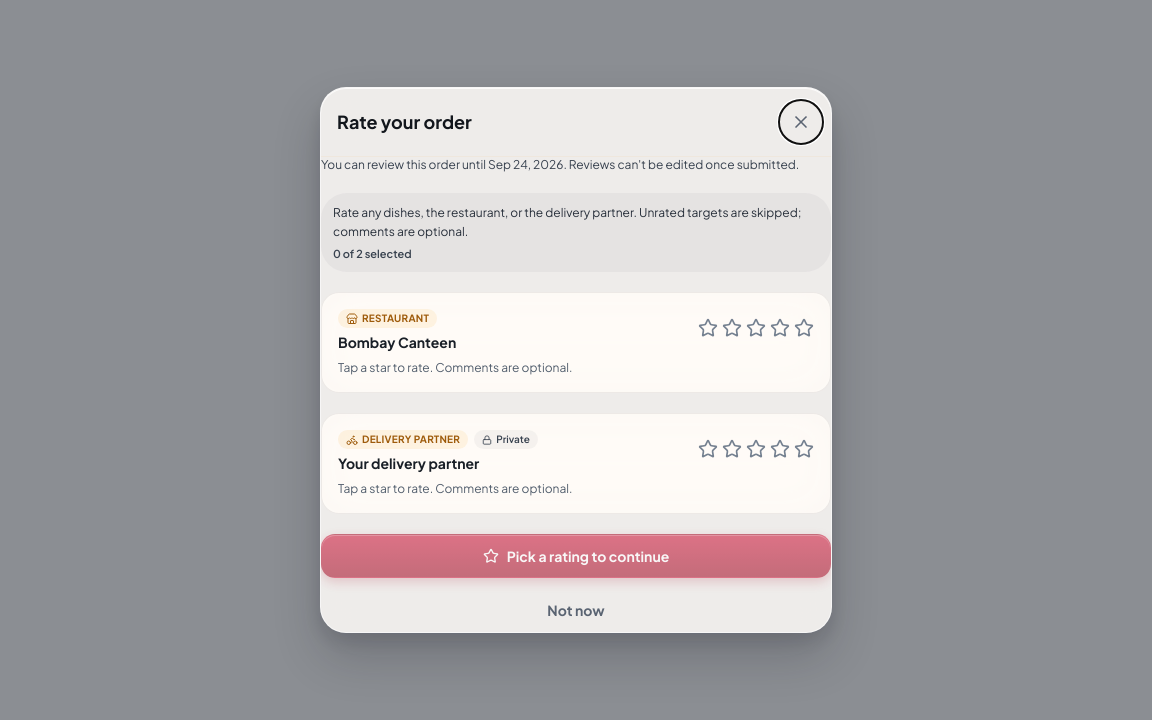
RateOrderModal › will not submit until something has actually been rated
Expected: the text "Bombay Canteen" is shown, 338,332 -> 456,352
Expected: the button "Pick a rating to continue" is disabled, 321,534 -> 831,578
Click the radio button named "5 stars" in the row of "Bombay Canteen".
click(804, 331)  # box 794,318 -> 814,344
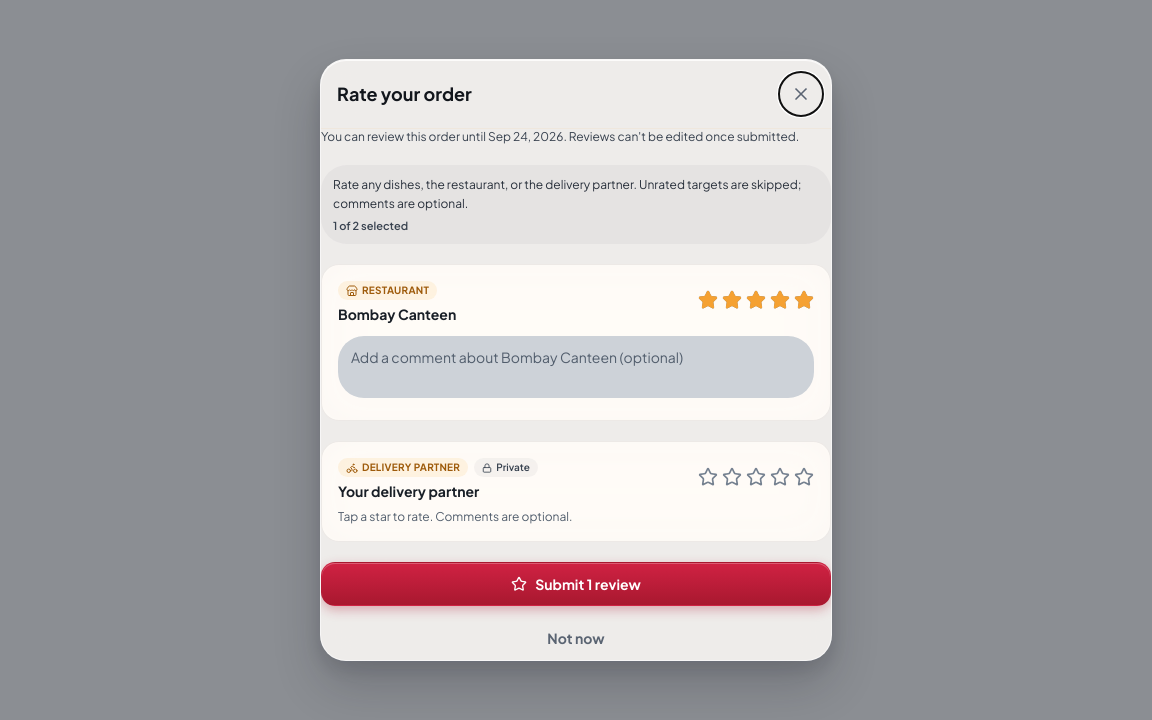
Result: the button "Submit 1 review" is enabled at 321,562 -> 831,606
